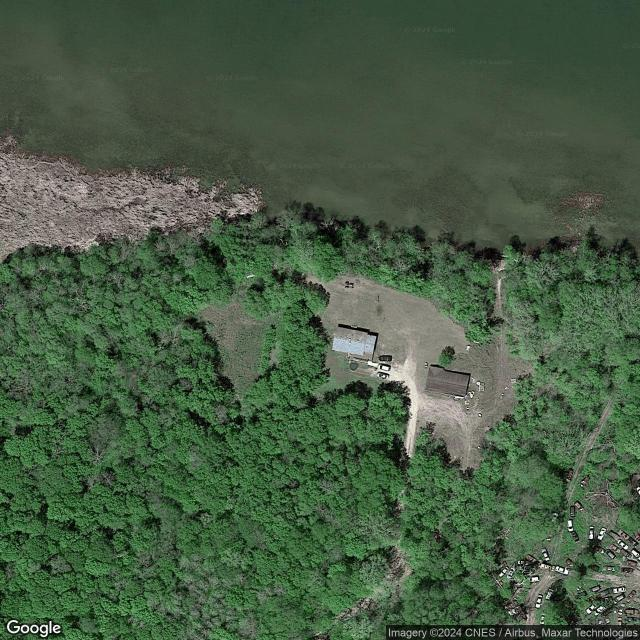Propane: (473, 341, 480, 344)
